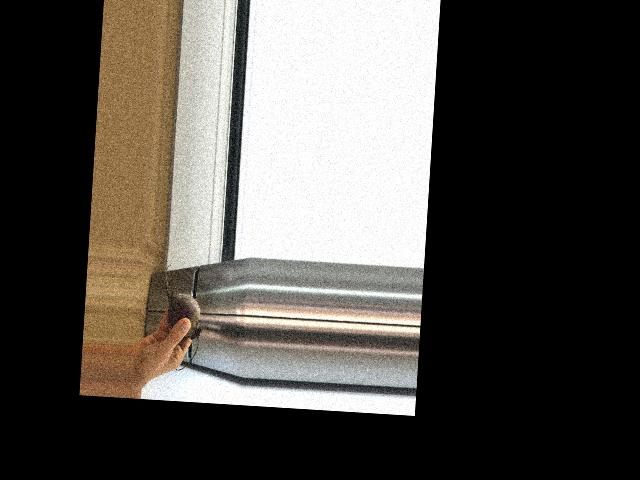beet: (159, 261, 205, 371)
